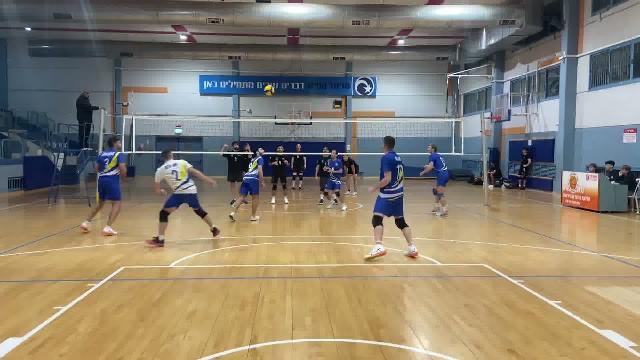ball: (259, 84, 279, 101)
